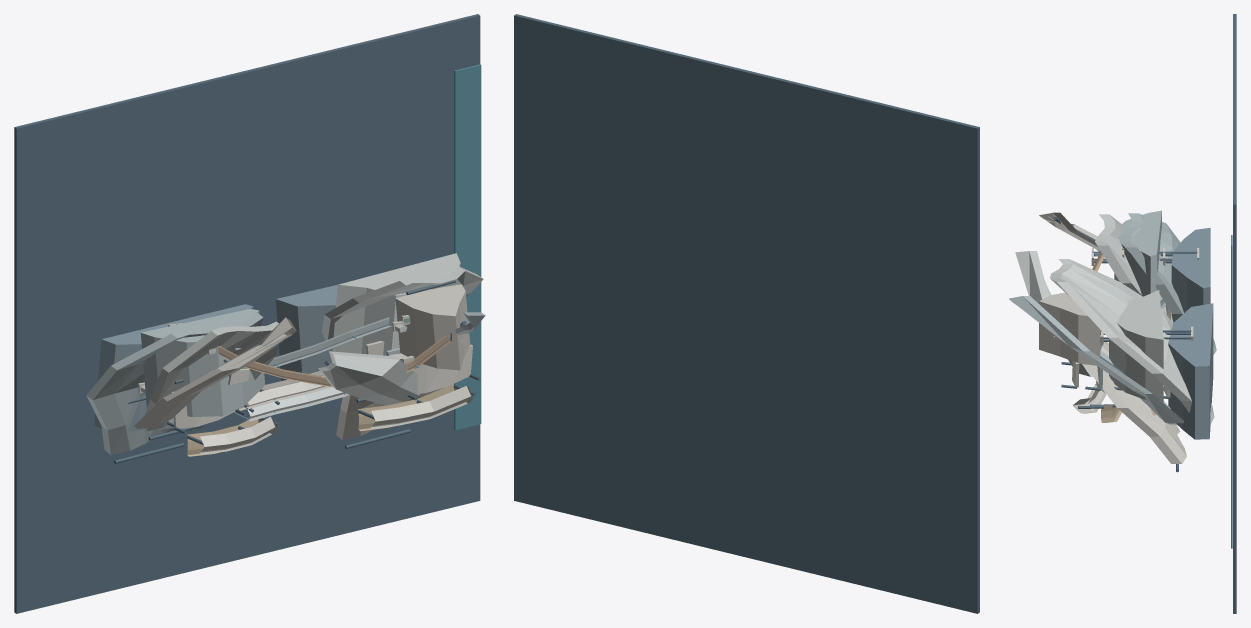
Rendered from J7R3_FRACTURED_INHABITED_CIVIC_SKY_NONCANONICAL.glb.
3 renders of one model, left to right at view 1: azimuth 30°, elevation 25°; view 2: azimuth 150°, elevation 25°; view 3: azimuth 270°, elevation 25°, orthographic. The views are drawn at different scales.
Parts seen in each view (by area): view 1: W0_NONCANONICAL_10KM_REFERENCE, W0_EAST_WATER_ABSTRACT, WEST_CIVIC_CLIFF_UPPER, WEST_COAST_FOLDED_INHABITED_GROUND, EAST_SERRATED_CREST_CITY, EAST_CIVIC_ESCARPMENT_MIDDLE, SKY_HORIZON_BROKEN_CROWN, EAST_RESIDENTIAL_CLIFF_LOWER, WEST_UPPER_SKY_CAMPUS, WEST_FREE_EDGE_WINDWARD, EAST_HIGH_TECTONIC_CITY, WEST_RESIDENTIAL_CLIFF_LOWER (+10 smaller); view 2: W0_NONCANONICAL_10KM_REFERENCE; view 3: EAST_HIGH_TECTONIC_CITY, EAST_RESIDENTIAL_CLIFF_LOWER, EAST_CIVIC_ESCARPMENT_MIDDLE, WEST_RESIDENTIAL_CLIFF_LOWER, EAST_SERRATED_CREST_CITY, EAST_LONGHORIZON_PUBLIC_CITY, EAST_SPIRE_FOLD, W0_NONCANONICAL_10KM_REFERENCE, WEST_COAST_FOLDED_INHABITED_GROUND, WEST_CIVIC_CLIFF_UPPER, WEST_UPPER_SKY_CAMPUS, SKY_HORIZON_BROKEN_CROWN (+3 smaller).
Boxes of the visible parts, x1,y1,x2,y2 form: W0_NONCANONICAL_10KM_REFERENCE: (14,14,480,613); W0_EAST_WATER_ABSTRACT: (454,64,481,430); WEST_CIVIC_CLIFF_UPPER: (140,309,265,416); WEST_COAST_FOLDED_INHABITED_GROUND: (86,313,263,454); EAST_SERRATED_CREST_CITY: (395,284,470,370); EAST_CIVIC_ESCARPMENT_MIDDLE: (331,253,460,361); SKY_HORIZON_BROKEN_CROWN: (318,351,419,405); EAST_RESIDENTIAL_CLIFF_LOWER: (275,285,337,380); WEST_UPPER_SKY_CAMPUS: (144,321,278,430); WEST_FREE_EDGE_WINDWARD: (134,317,296,429); EAST_HIGH_TECTONIC_CITY: (322,266,483,340); WEST_RESIDENTIAL_CLIFF_LOWER: (94,304,253,430); W0_NONCANONICAL_10KM_REFERENCE: (514,14,979,613); EAST_HIGH_TECTONIC_CITY: (1050,259,1214,424); EAST_RESIDENTIAL_CLIFF_LOWER: (1168,303,1213,439); EAST_CIVIC_ESCARPMENT_MIDDLE: (1109,290,1163,402); WEST_RESIDENTIAL_CLIFF_LOWER: (1171,227,1210,322); EAST_SERRATED_CREST_CITY: (1039,292,1100,365); EAST_LONGHORIZON_PUBLIC_CITY: (1083,342,1186,463); EAST_SPIRE_FOLD: (1009,296,1183,424); W0_NONCANONICAL_10KM_REFERENCE: (1233,14,1236,613); WEST_COAST_FOLDED_INHABITED_GROUND: (1119,213,1216,354); WEST_CIVIC_CLIFF_UPPER: (1114,210,1161,296); WEST_UPPER_SKY_CAMPUS: (1095,214,1173,322); SKY_HORIZON_BROKEN_CROWN: (1015,251,1092,376).
Bounding box in the file's own units: 10000 × 10000 × 5055.
